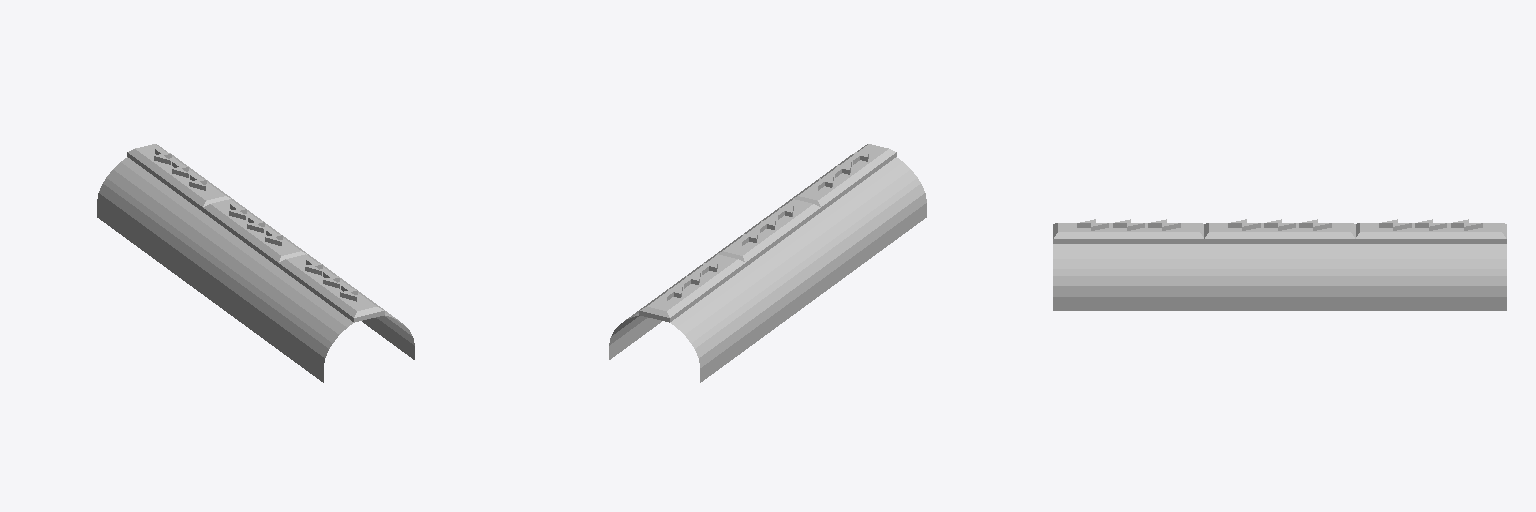
The model's file is Level6Wire8.obj.
3 views of the same model, side by side, from view 1: azimuth 30°, elevation 25°; view 2: azimuth 150°, elevation 25°; view 3: azimuth 270°, elevation 25° (orthographic).
Visible parts, largest first — view 1: Wire_Basic.074_Segment_Cube.067; view 2: Wire_Basic.074_Segment_Cube.067; view 3: Wire_Basic.074_Segment_Cube.067.
Part boxes in pixels (bbox=[...]): Wire_Basic.074_Segment_Cube.067: bbox=[97, 144, 414, 382]; Wire_Basic.074_Segment_Cube.067: bbox=[609, 144, 926, 382]; Wire_Basic.074_Segment_Cube.067: bbox=[1053, 219, 1506, 310].
Size of the model in its own units: 1.96 by 1.35 by 8.4.